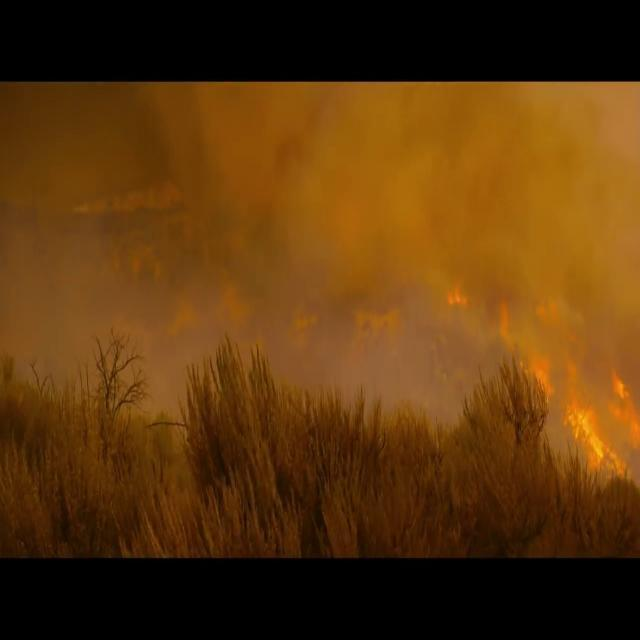Fire: (568, 368, 630, 466)
Smoke: (220, 105, 628, 350)
